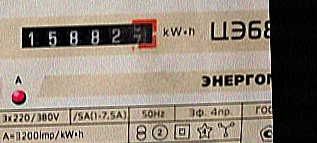1: (26, 31, 36, 48)
2: (110, 28, 121, 45)
5: (47, 31, 58, 47)
7: (132, 34, 142, 45)
8: (89, 29, 100, 47), (68, 31, 79, 47)
screen: (14, 15, 163, 59)
